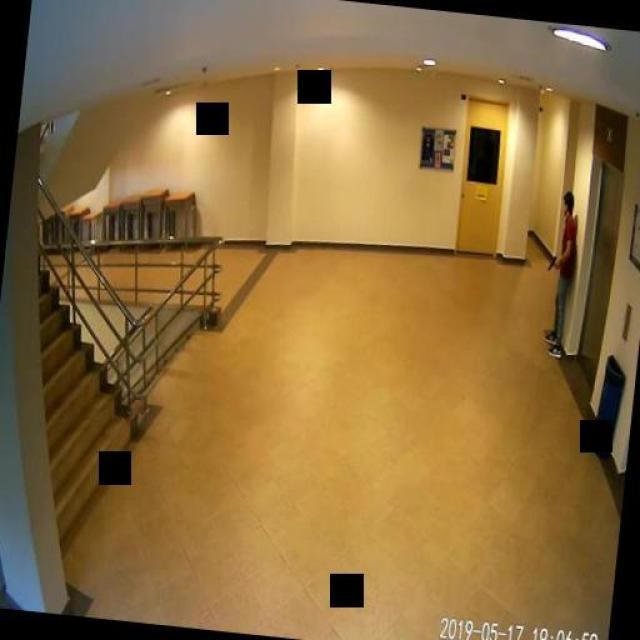gun: (548, 254, 558, 271)
